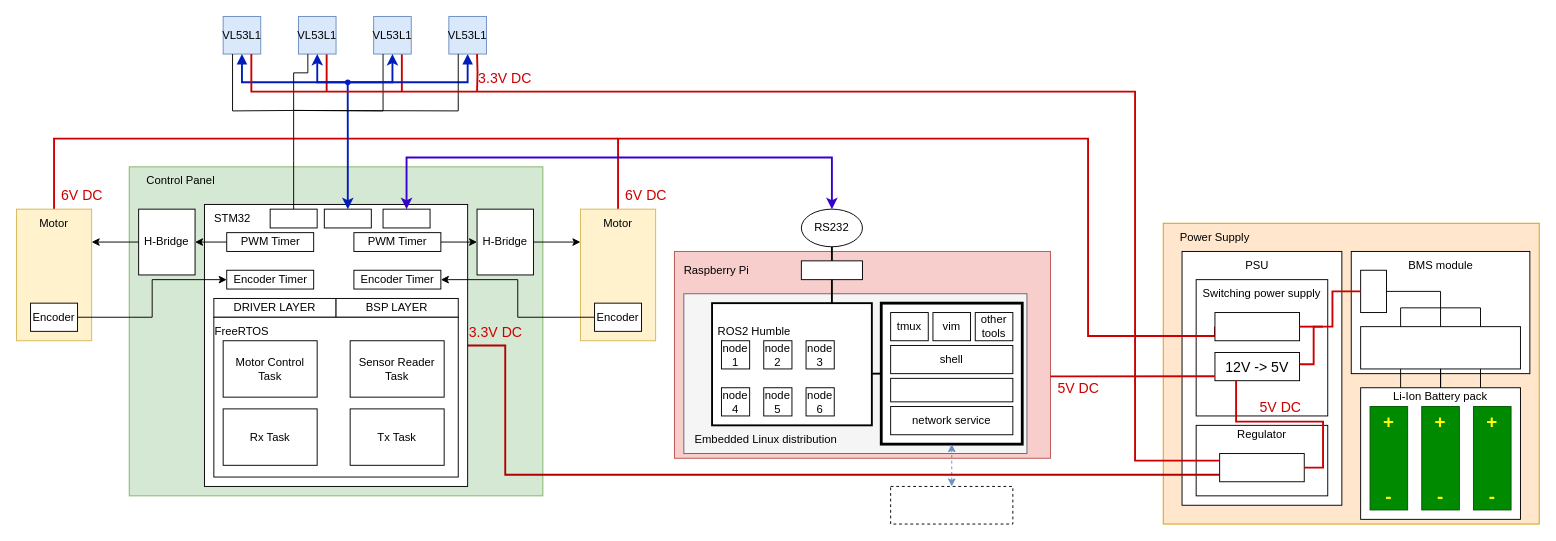
This 1556x541 diagram has some shape labels left out. Here are the shapes that lost their labels. From the top down, the centre of each, then its label:
At pixel 293 218: "GPIO".
At pixel 347 218: "I2C".
At pixel 406 218: "UART".
At pixel 831 270: "Serial port".
At pixel 1373 291: "12V".
At pixel 1257 326: "12V -> 6V".
At pixel 1440 347: "4.2V 4.2V 4.2V".
At pixel 951 389: "ssh".
At pixel 1261 467: "5V -> 3.3V".
At pixel 951 505: "USER (optional)".
